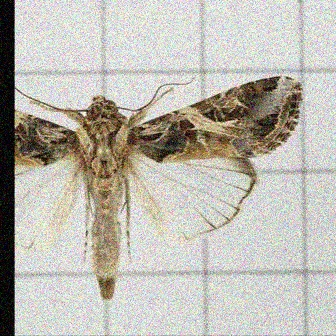Spodoptera litura: (15, 75, 302, 302)
